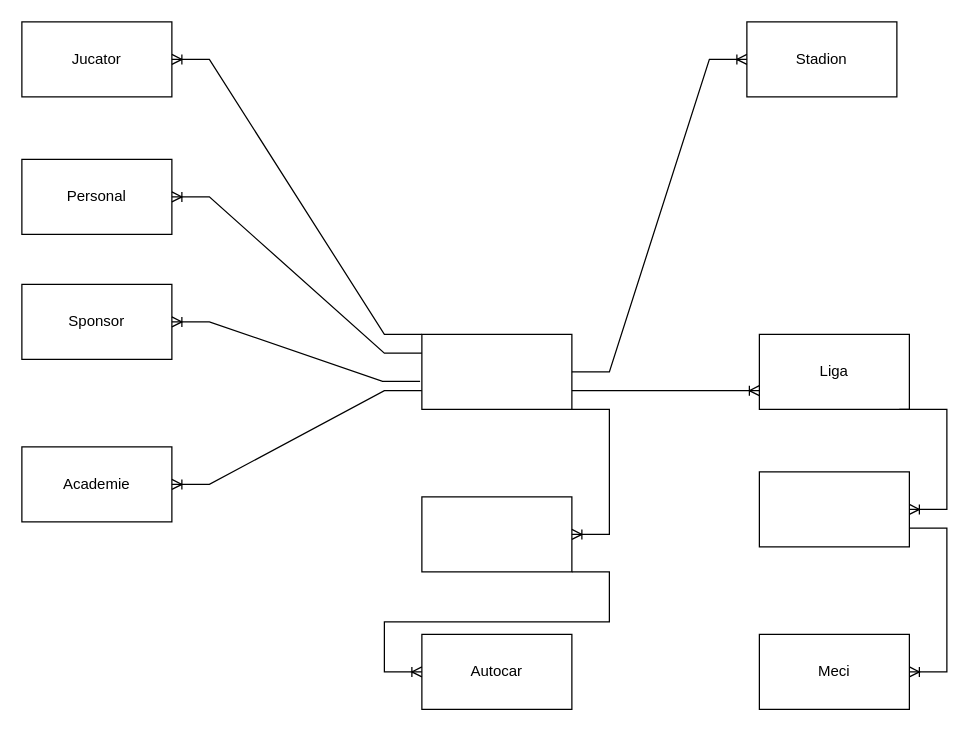
Image size: 979x731. Some labels were removed from this diagram. The shapes that lost their labels are listed below. From the top down, each one's box as (x1, y1, x2, y2) in pixels, then its label:
(421, 333, 572, 409): Echipa
(758, 471, 909, 547): Etapa
(421, 496, 572, 572): Flota
